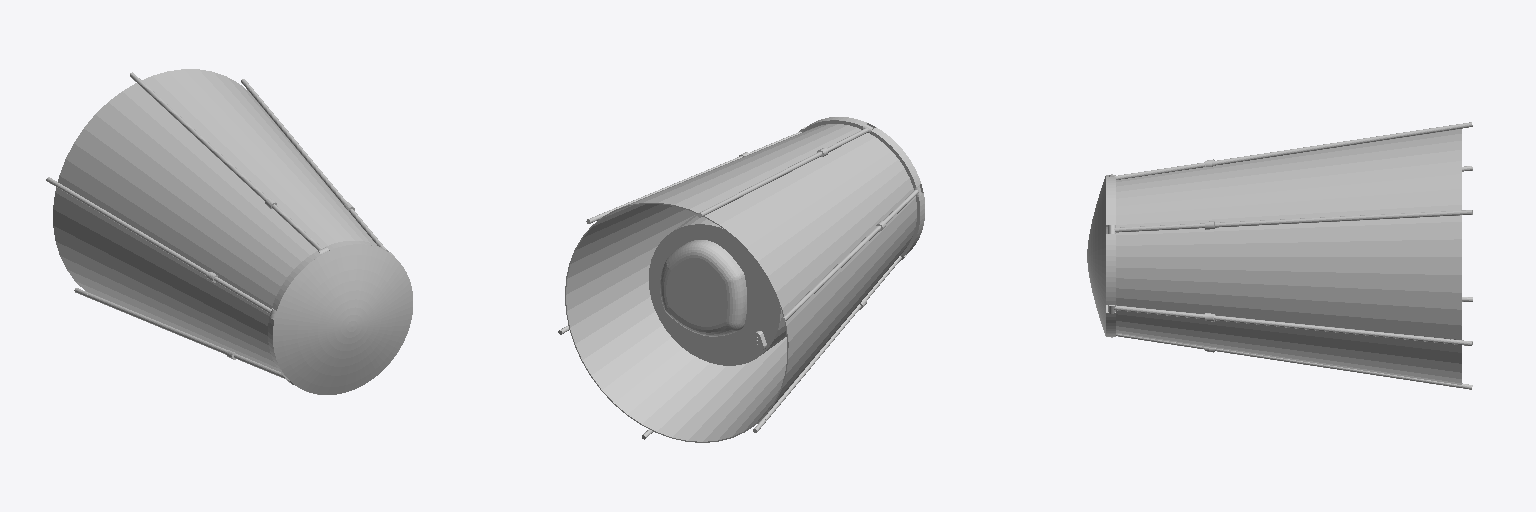
Rendered from Payload assembly 2.obj.
3 views of the same model, side by side, from view 1: azimuth 30°, elevation 25°; view 2: azimuth 150°, elevation 25°; view 3: azimuth 270°, elevation 25° (orthographic).
Parts seen in each view (by area): view 1: mesh 4 umbrella pin-1, mesh 2 ring-1, mesh 3 pinHD-1; view 2: mesh 4 umbrella pin-1, mesh 2 ring-1, mesh 6 umbrella pin-2, mesh 3 pinHD-1, mesh 5 pin2-1; view 3: mesh 4 umbrella pin-1, mesh 3 pinHD-1, mesh 2 ring-1.
Part boxes in pixels (x1,y1,x2,y2): mesh 4 umbrella pin-1: (53,69,376,371); mesh 2 ring-1: (268,241,412,394); mesh 3 pinHD-1: (46,72,394,384); mesh 4 umbrella pin-1: (565,124,916,442); mesh 2 ring-1: (650,117,924,363); mesh 6 umbrella pin-2: (660,240,746,336); mesh 3 pinHD-1: (558,124,921,439); mesh 5 pin2-1: (649,214,786,365); mesh 4 umbrella pin-1: (1116,129,1461,384); mesh 3 pinHD-1: (1108,122,1472,389); mesh 2 ring-1: (1087,175,1115,336).
Size of the model in its own units: 0.2116 by 0.2135 by 0.3109.